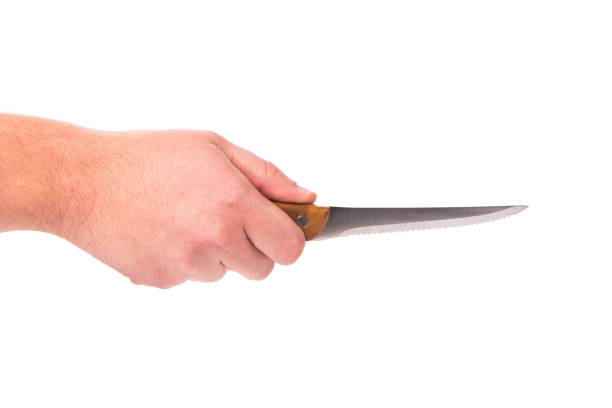knife: (267, 199, 531, 243)
